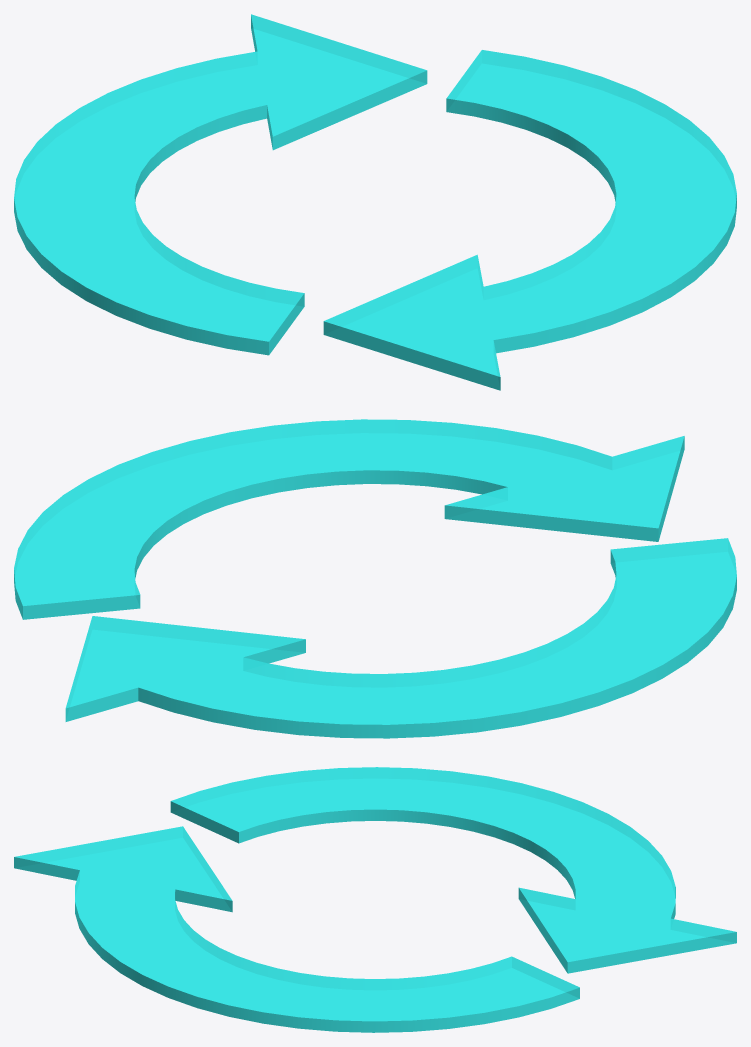
File: Arrow round.dae
3 views of the same model, one above another, from view 1: azimuth 30°, elevation 25°; view 2: azimuth 150°, elevation 25°; view 3: azimuth 270°, elevation 25° (orthographic). The views are drawn at different scales.
Parts seen in each view (by area): view 1: group_0 (×2); view 2: group_0 (×2); view 3: group_0 (×2).
Part boxes in pixels (x1,y1,x2,y2): group_0 (×2): (14,14,736,390); group_0 (×2): (14,419,736,738); group_0 (×2): (14,767,736,1032).
Bounding box in the file's own units: 24 × 28.83 × 0.5.
